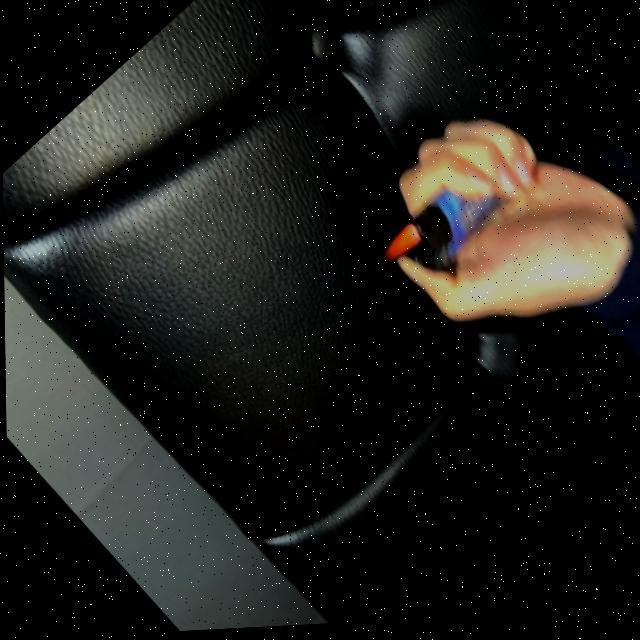Fire: (372, 221, 428, 277)
